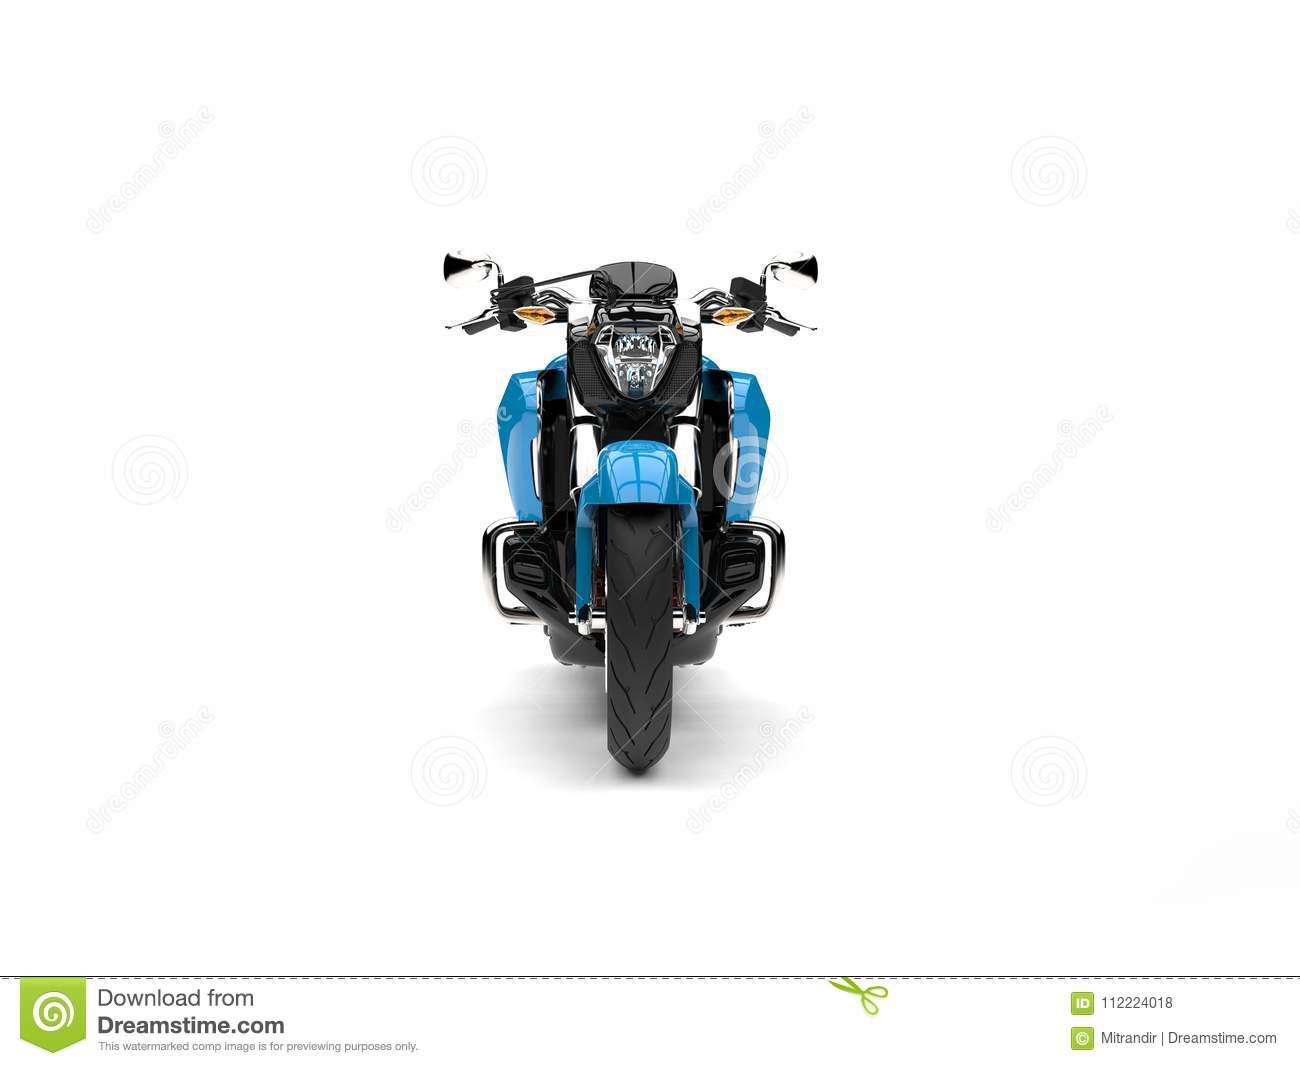motorcycle: (409, 228, 845, 791)
